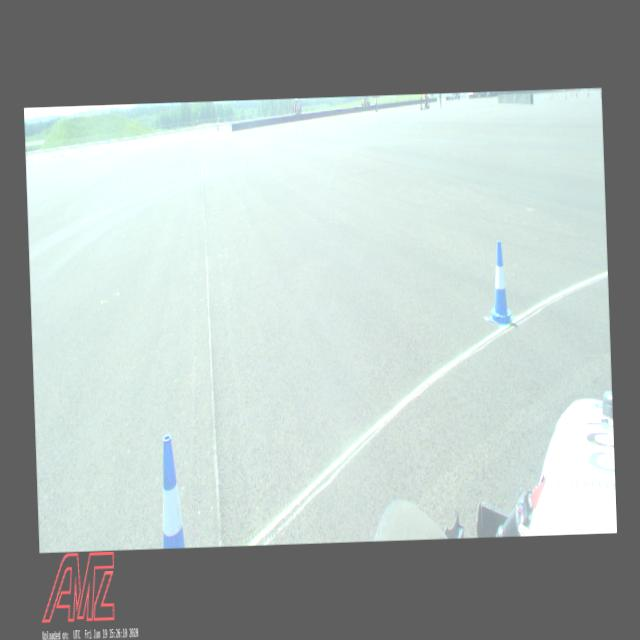blue_cone: (160, 434, 184, 548), (486, 240, 514, 326)
